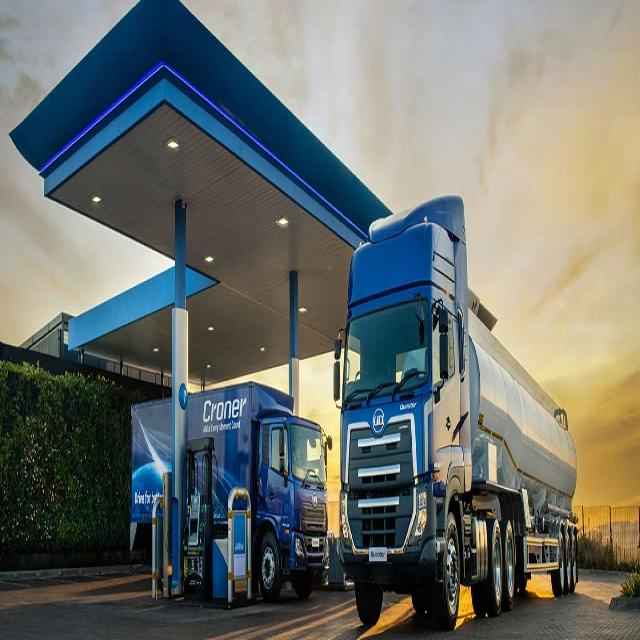Heavy Duty Truck: (332, 182, 583, 633), (126, 379, 330, 599)
